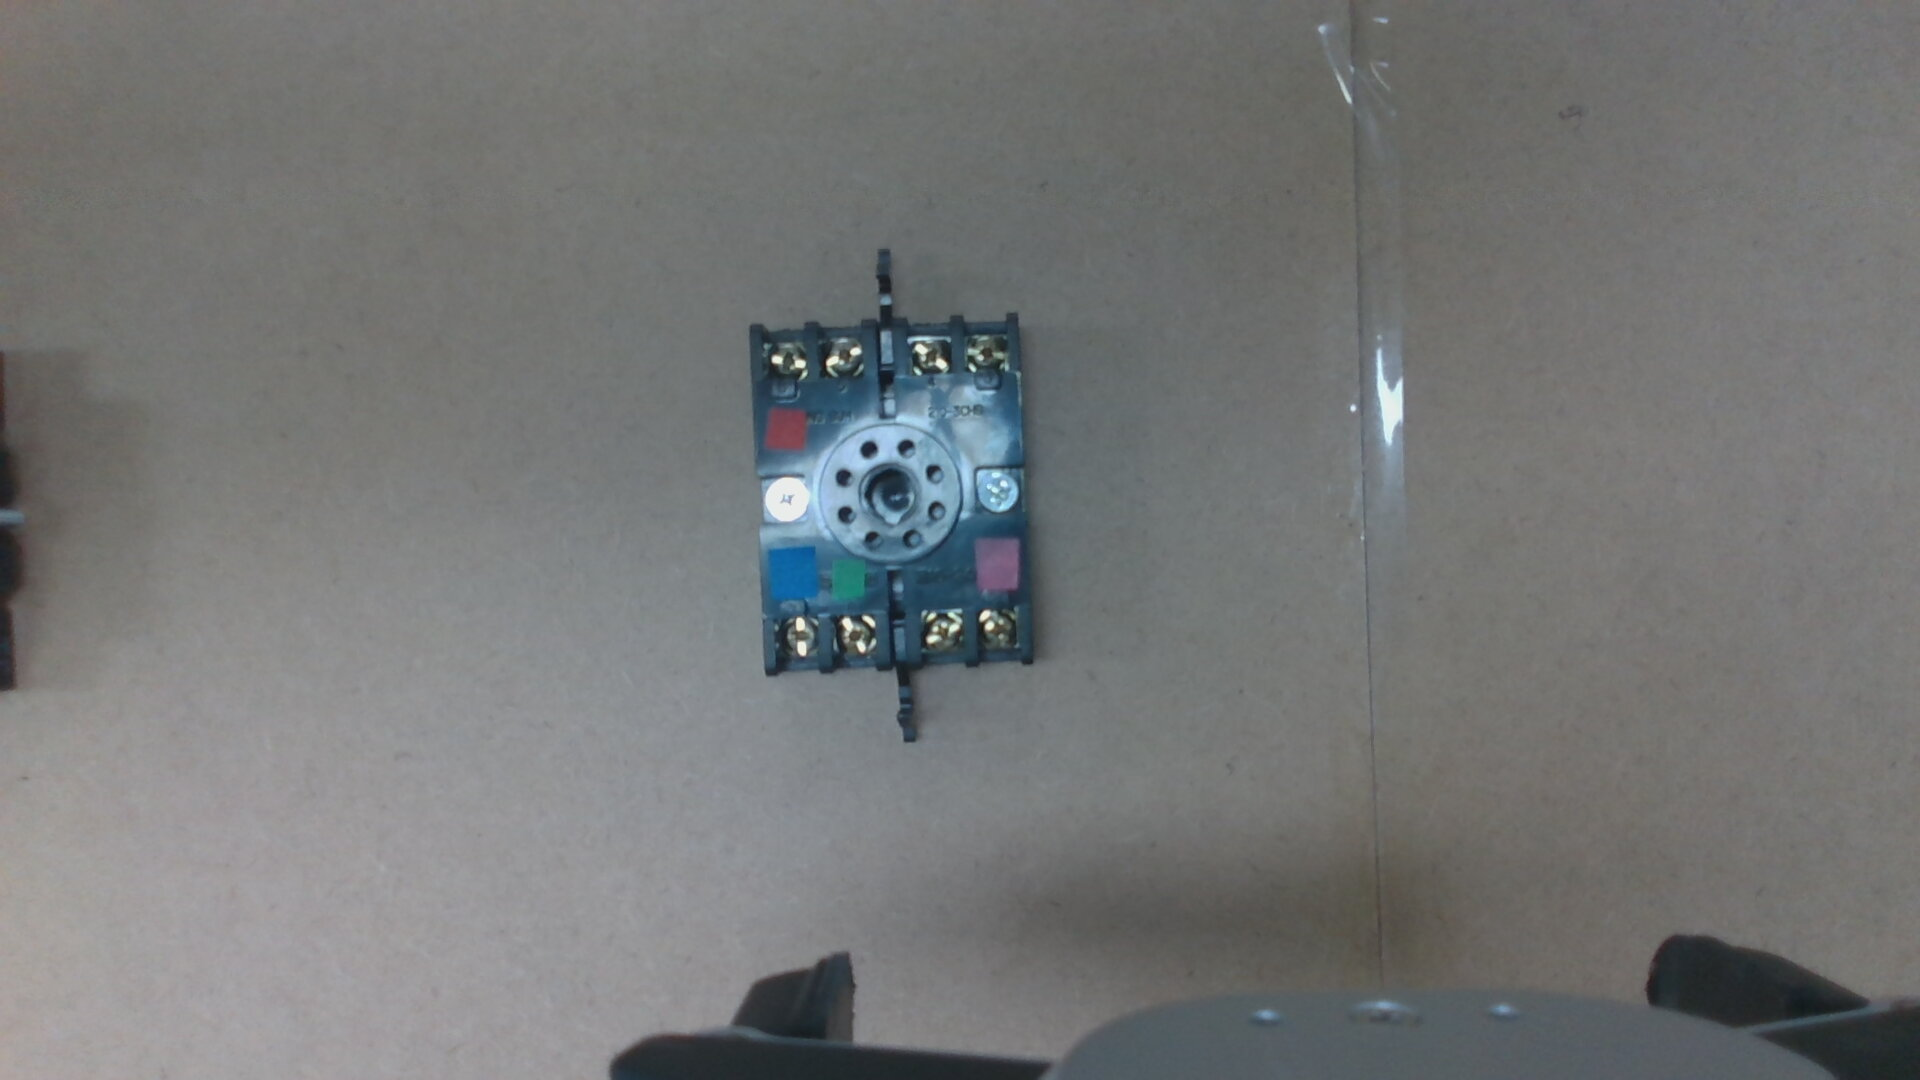timer 2: (978, 611, 1015, 647)
timer 6: (765, 342, 807, 377)
timer 7: (778, 617, 818, 655)
timer 8: (835, 616, 874, 655)
